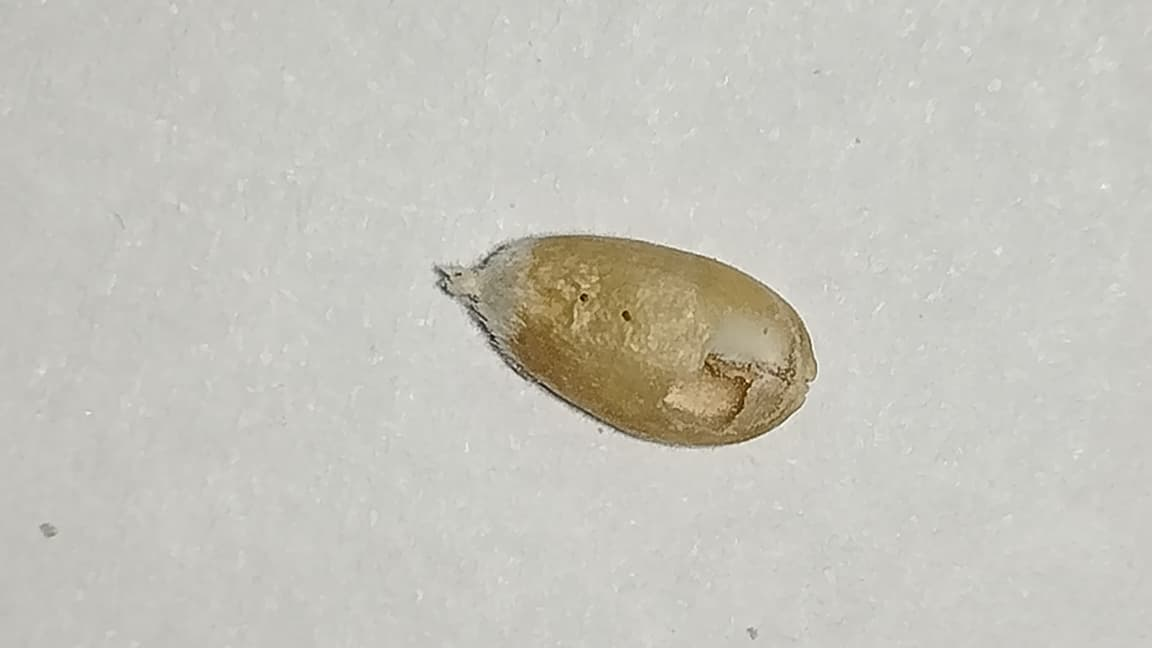damage: (447, 235, 815, 444)
insectdamage: (663, 308, 799, 439)
